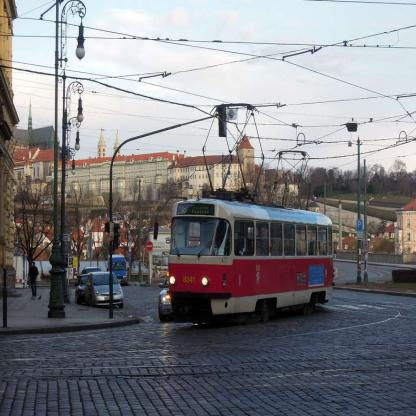Bus: (168, 198, 334, 328)
